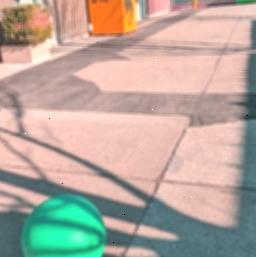algae: (24, 194, 108, 257)
